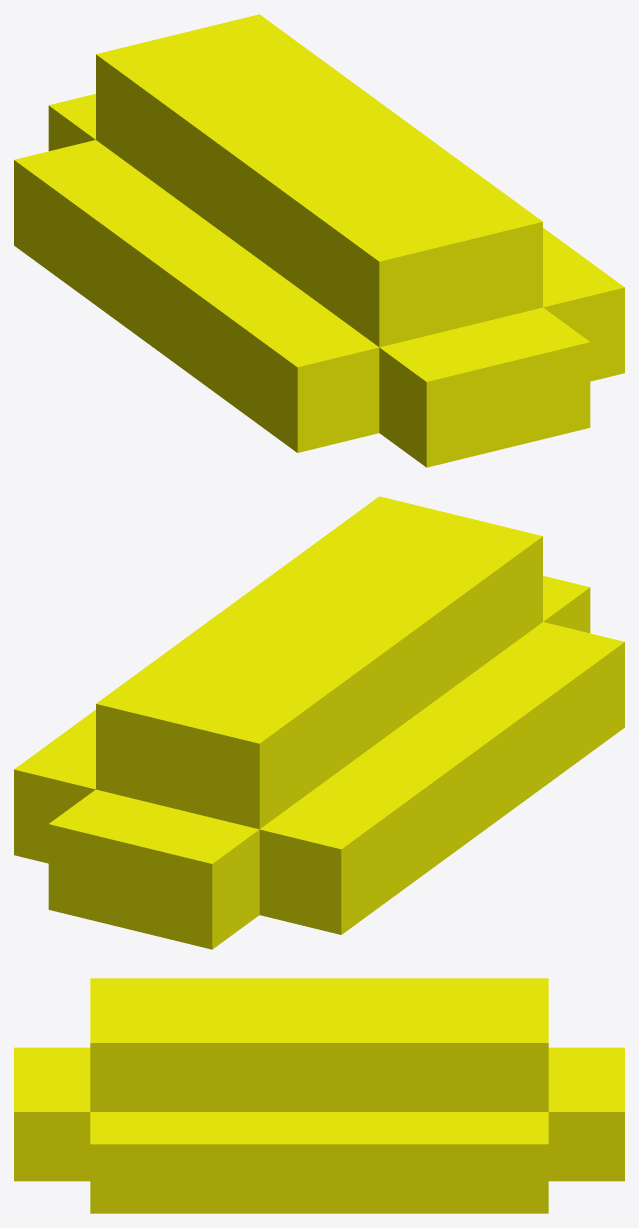
Rendered from voxel-village-gold-bar.glb.
The picture shows the model from 3 angles, top to bottom: view 1: azimuth 30°, elevation 25°; view 2: azimuth 150°, elevation 25°; view 3: azimuth 270°, elevation 25°; orthographic projection. The views are drawn at different scales.
Visible parts, largest first — view 1: VS_Villagers_GoldBar; view 2: VS_Villagers_GoldBar; view 3: VS_Villagers_GoldBar.
Part boxes in pixels (x1=…): VS_Villagers_GoldBar: x1=14, y1=14, x2=624, y2=467; VS_Villagers_GoldBar: x1=14, y1=496, x2=624, y2=949; VS_Villagers_GoldBar: x1=14, y1=978, x2=624, y2=1213.
Bounding box in the file's own units: 0.4001 × 0.2 × 0.8.
